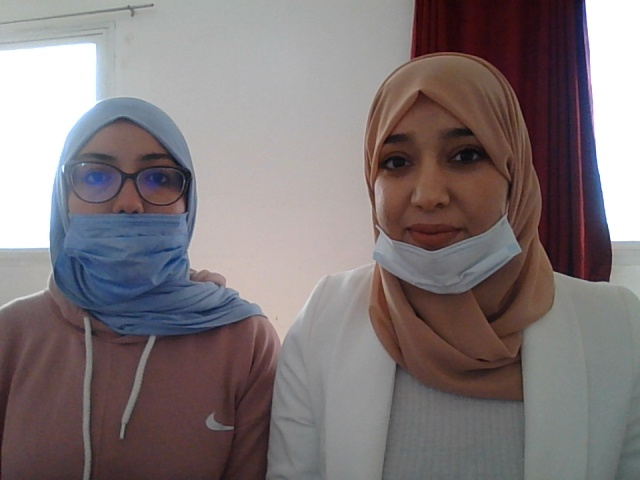mask_weared_incorrect: (353, 86, 529, 292), (48, 104, 175, 309)
